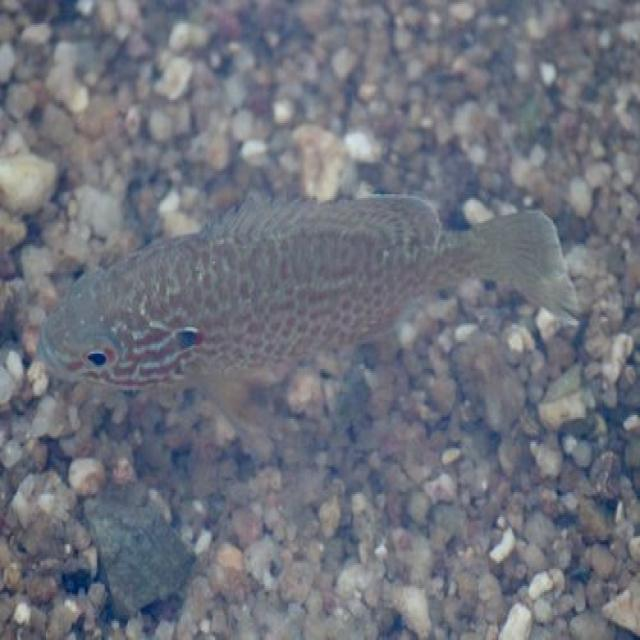Gunes Levregi: (36, 185, 599, 400)
